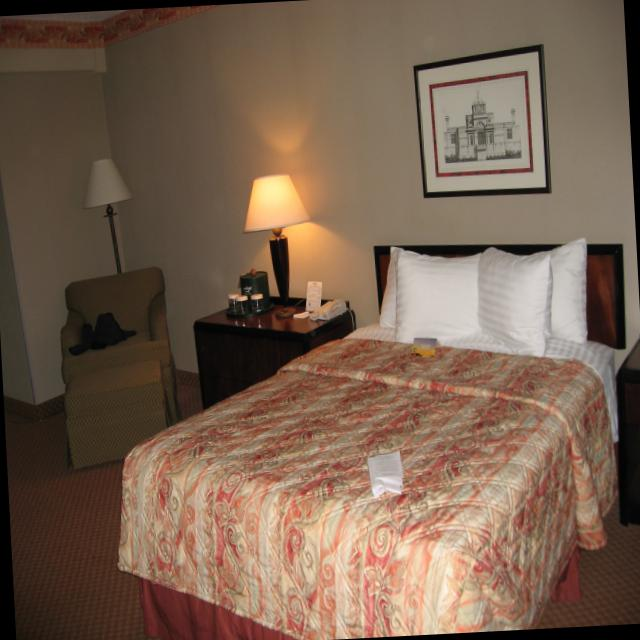armchair crop: (60, 266, 184, 472)
bed -occluded-: (117, 236, 628, 640)
ceiling beam: (0, 10, 127, 23)
floor -X: (5, 373, 640, 640)
glass ceiling: (251, 293, 265, 313), (228, 292, 240, 312)
lamp crop: (247, 172, 313, 290), (83, 155, 132, 275)
painting crop: (413, 44, 552, 198)
phone charger: (310, 298, 347, 321)
pillow occluded: (477, 247, 554, 358)
wall clock: (0, 0, 640, 482)
